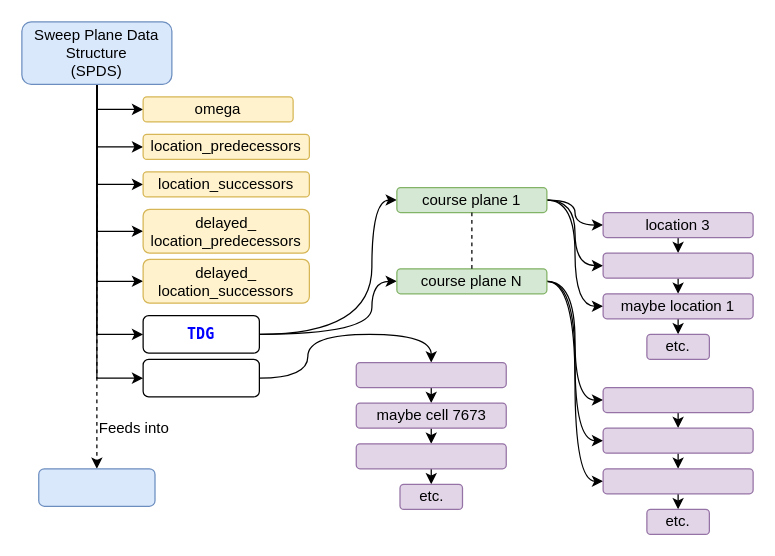
The diagram is 775 pixels wide and 556 high, and some of its shapes have lost their labels. The box of each missing label's shape, as (x1, y1, x2, y2) in pixels:
cell 2543: (355, 361, 506, 388)
FLUDS: (38, 468, 155, 506)
maybe cell 2542: (355, 442, 506, 469)
maybe location 2: (602, 468, 753, 494)
maybe location 4: (602, 386, 753, 412)
maybe location 7: (602, 252, 753, 278)
maybe location 8: (602, 427, 753, 453)
SPLS: (142, 358, 259, 397)
